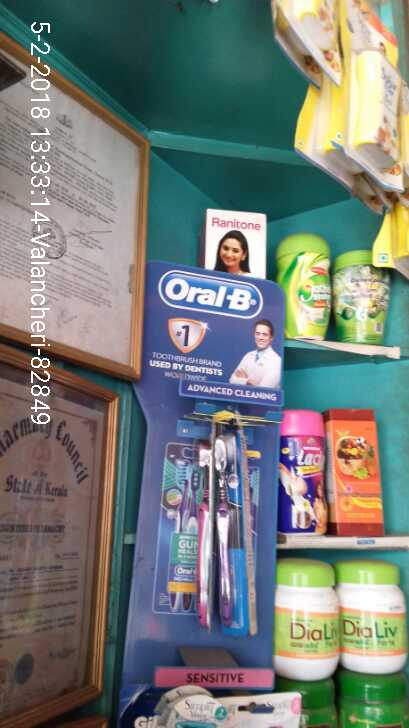oralb: (191, 416, 246, 620)
